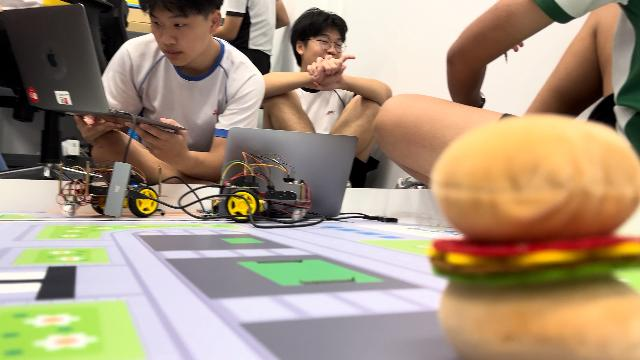burger: (426, 112, 640, 358)
